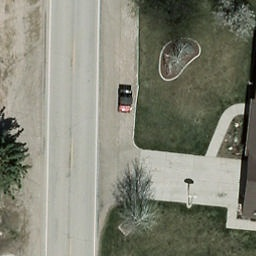car: (117, 84, 135, 115)
